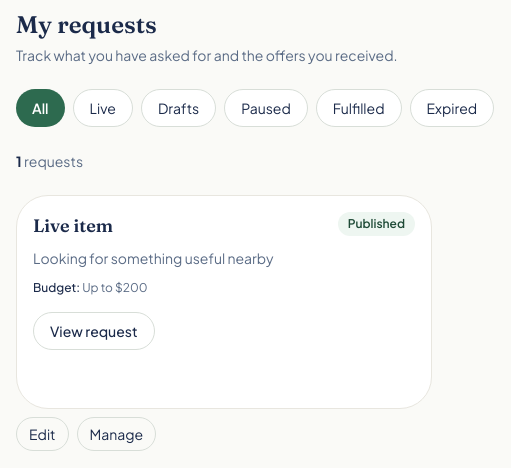
MyRequests › filters by status through the API
Expected: the heading "Live item" is shown, [33,212,113,240]
What coordinates should you click on to do the following:
click the button "Drafts"
I would click on:
 (179, 108)
Its box is [141,89,216,127].
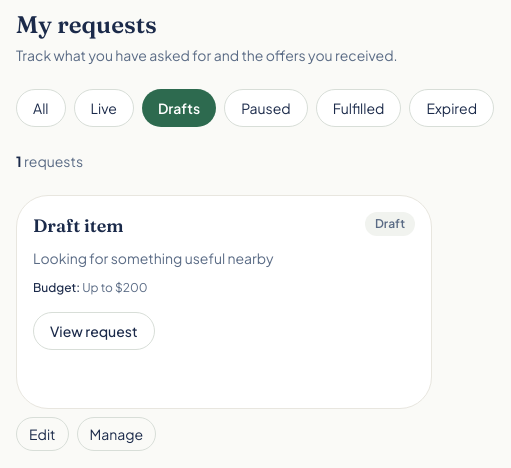
Now the heading "Draft item" is shown, box [33,212,124,240]
